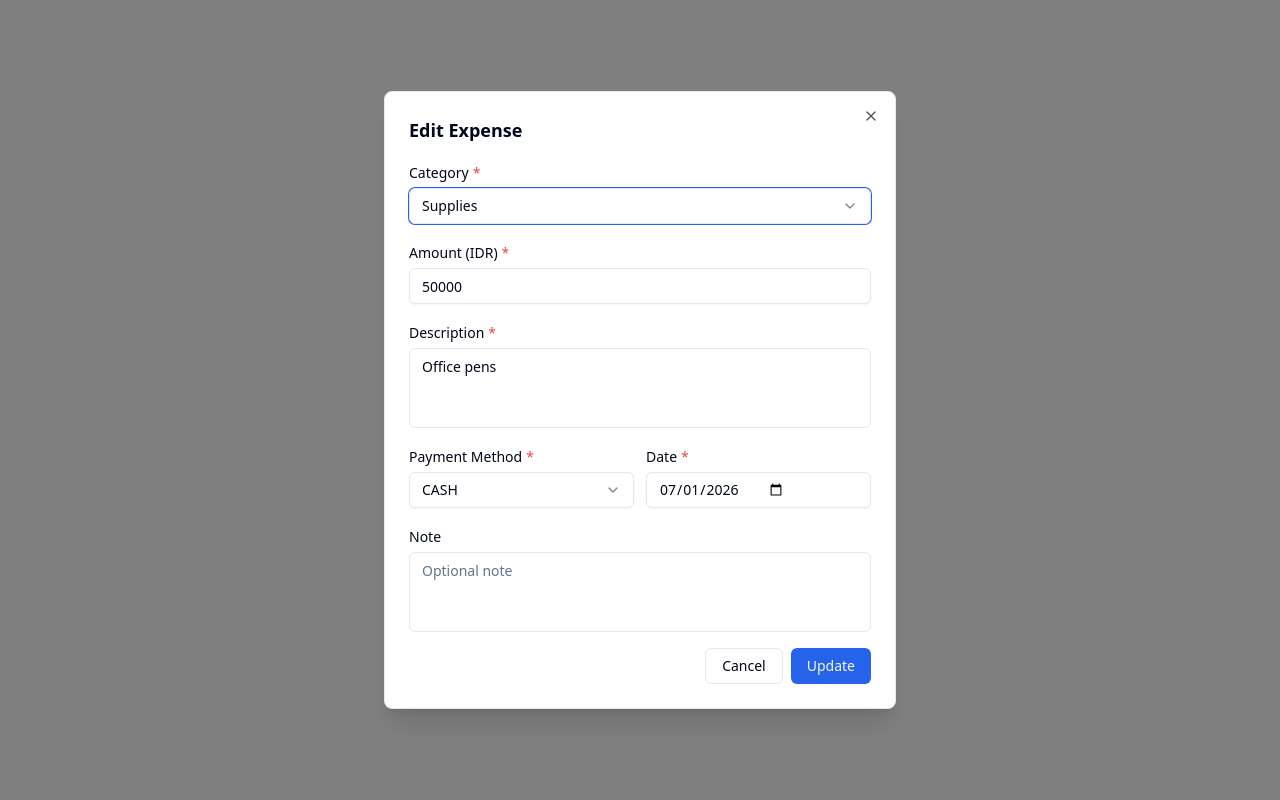
Test: ExpenseFormModal — applyApiErrors wiring › surfaces field error on description field when server returns fieldErrors
Submit the pre-filled form — should pass client validation and hit server
Click the button "Update" at [831, 666], box top-left (791, 648), bottom-right (871, 684)
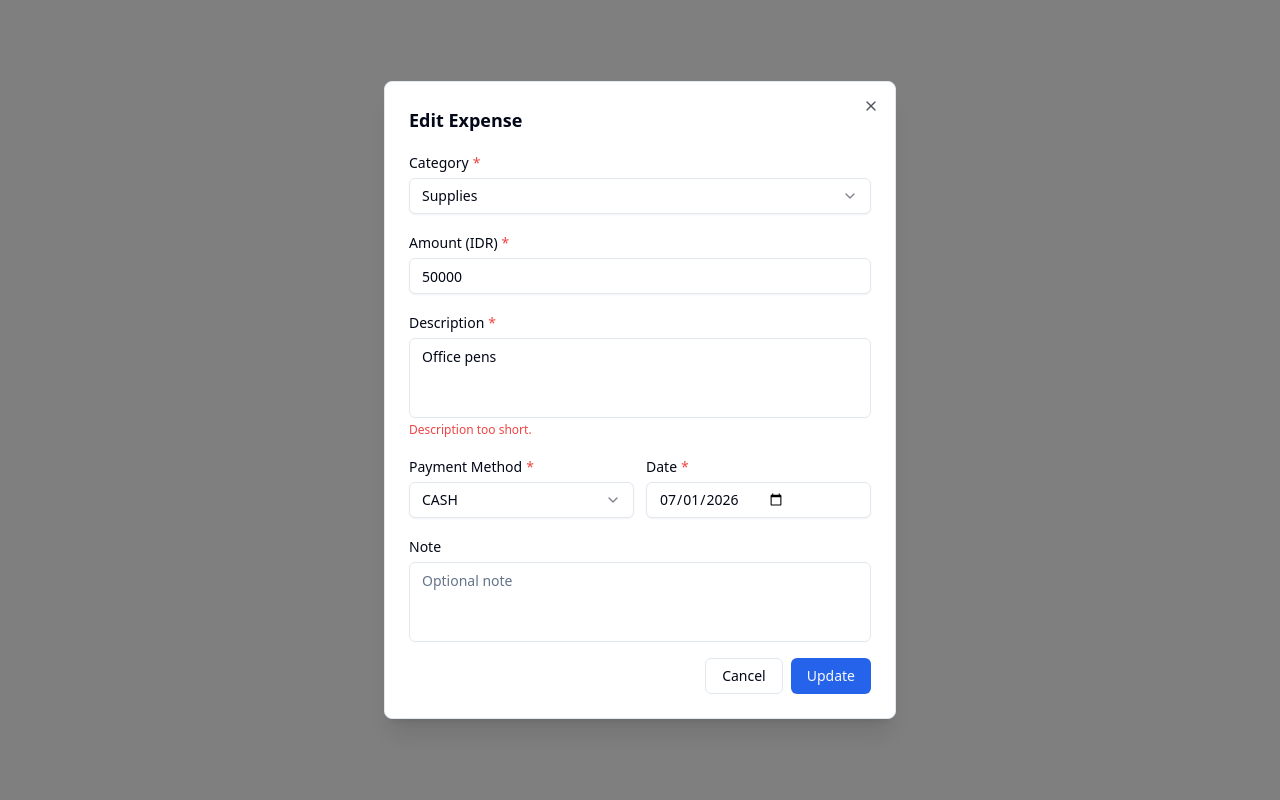
Expected: the text "Description too short." is shown, top-left (409, 421), bottom-right (532, 438)
